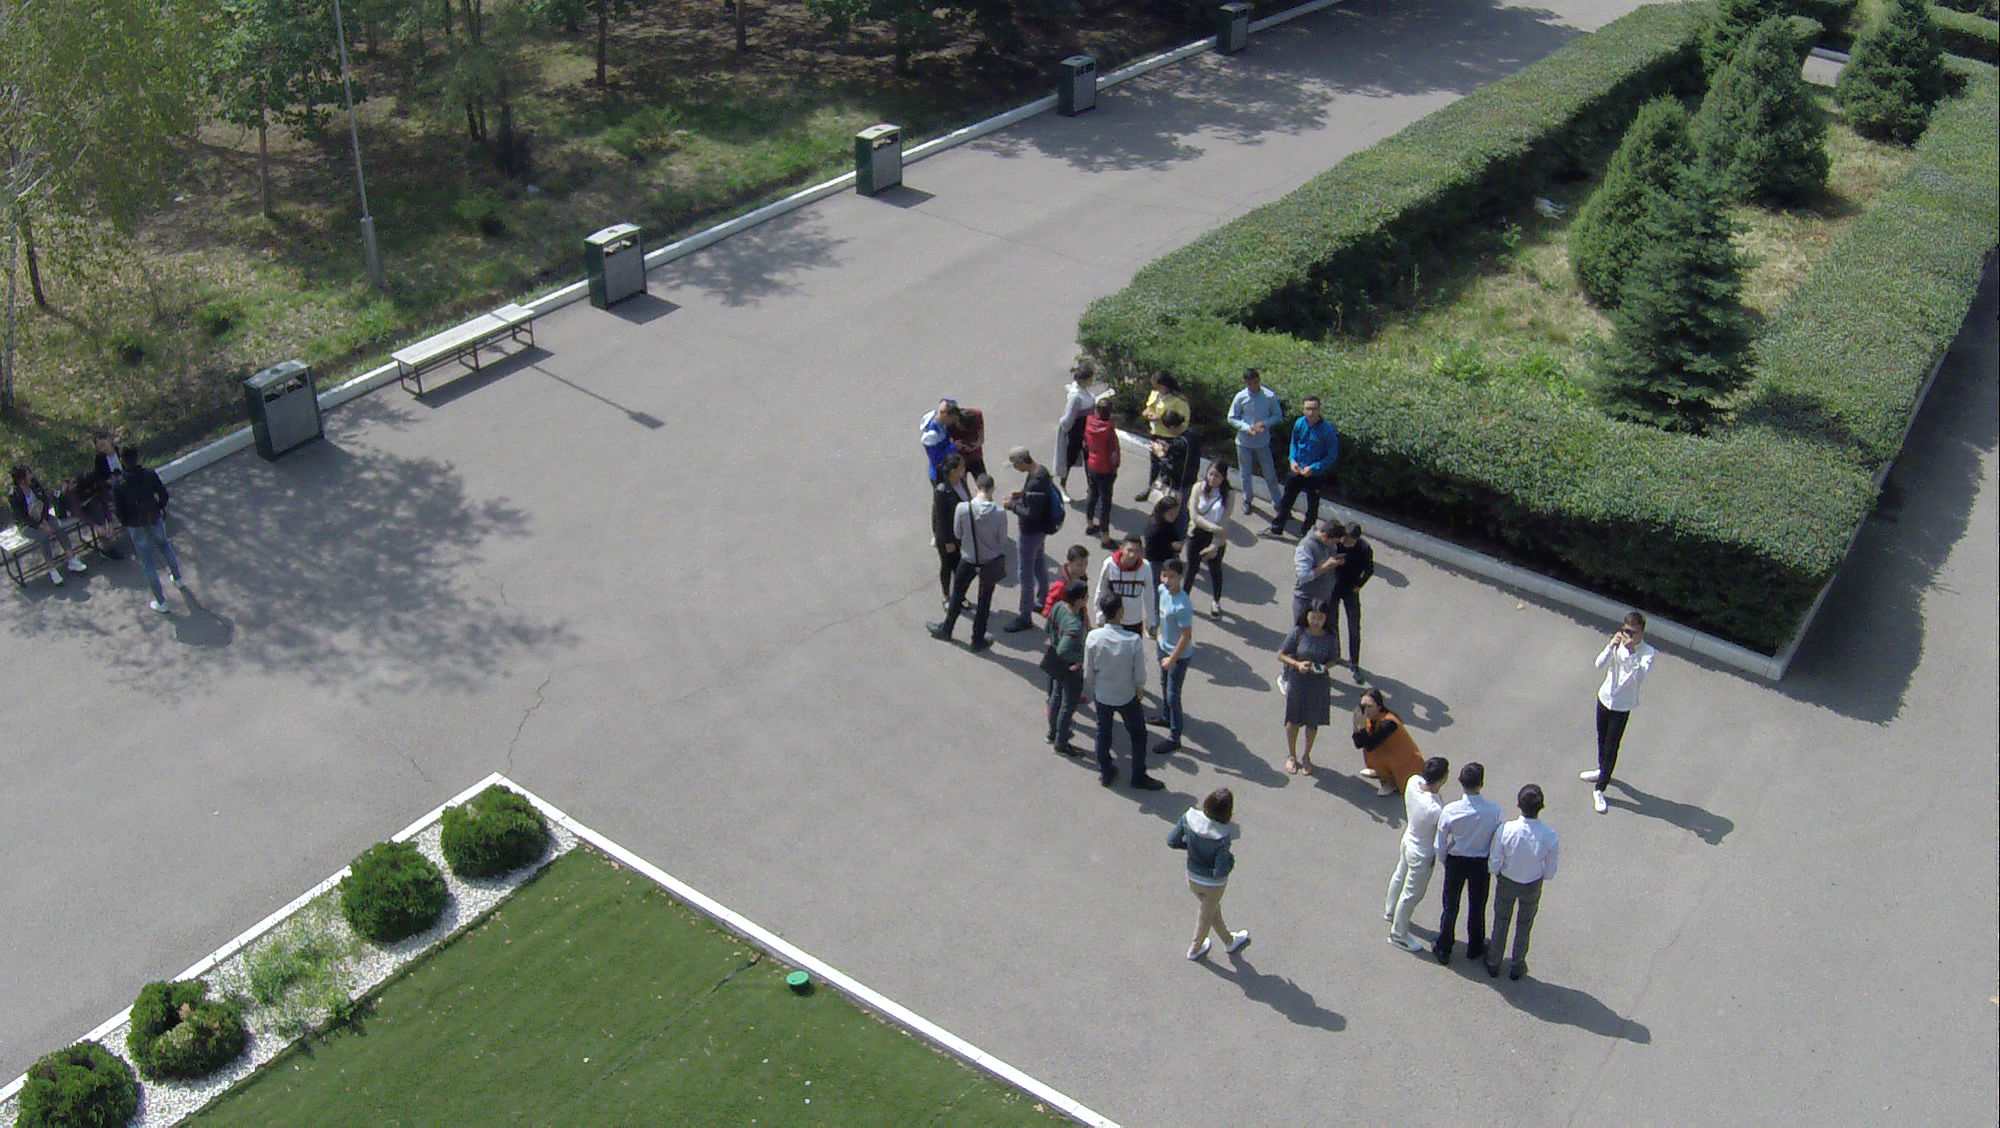person: (1570, 614, 1649, 822), (1385, 758, 1453, 968), (1087, 593, 1162, 778), (1178, 785, 1249, 974), (107, 447, 193, 597), (7, 458, 87, 593), (1222, 380, 1291, 537), (1447, 762, 1497, 970), (1276, 601, 1332, 787), (1347, 683, 1430, 797), (957, 476, 1007, 651), (1330, 516, 1380, 685), (1041, 583, 1089, 755), (1501, 778, 1541, 987), (1149, 562, 1191, 751), (1274, 397, 1335, 528), (1005, 439, 1060, 572), (1082, 405, 1114, 549)
